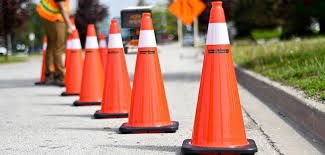cone: (187, 1, 247, 152), (122, 13, 176, 133), (97, 18, 133, 117), (76, 23, 104, 106), (63, 29, 85, 96)
